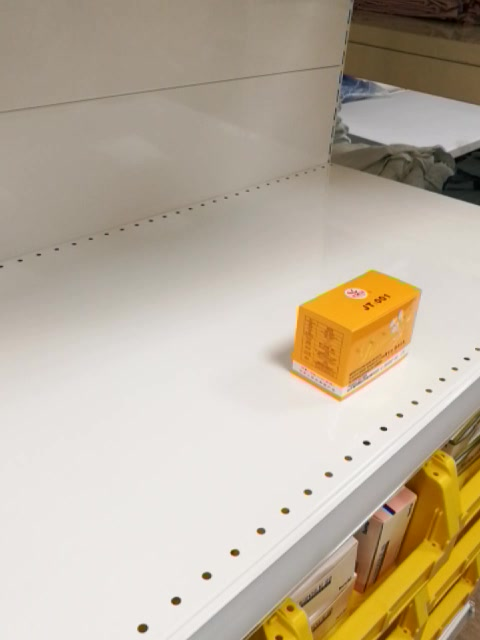jasminetea: (289, 268, 427, 402)
